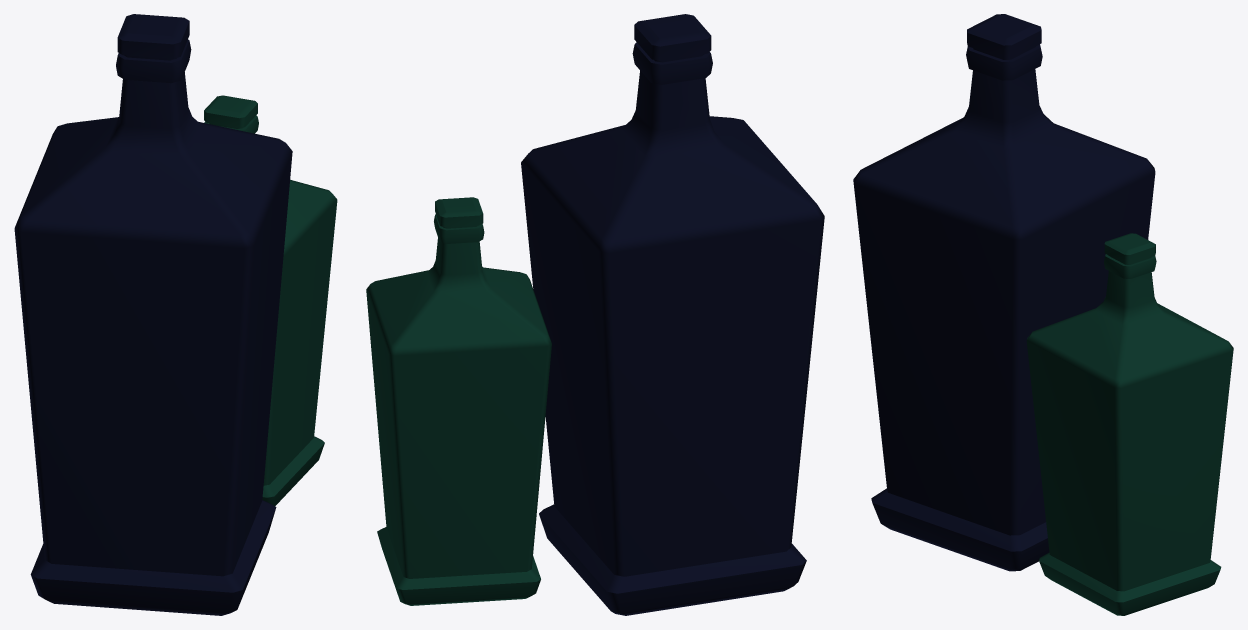
File: bottles.glb
The picture shows the model from 3 angles, left to right: view 1: azimuth 30°, elevation 25°; view 2: azimuth 150°, elevation 25°; view 3: azimuth 270°, elevation 25°; orthographic projection. The views are drawn at different scales.
Parts seen in each view (by area): view 1: Bottles 2; view 2: Bottles 2; view 3: Bottles 2.
Part boxes in pixels (<box>): Bottles 2: <box>14,14,337,615</box>; Bottles 2: <box>366,14,824,615</box>; Bottles 2: <box>853,14,1233,615</box>.
Size of the model in its own units: 0.7698 by 1.03 by 0.7165.
